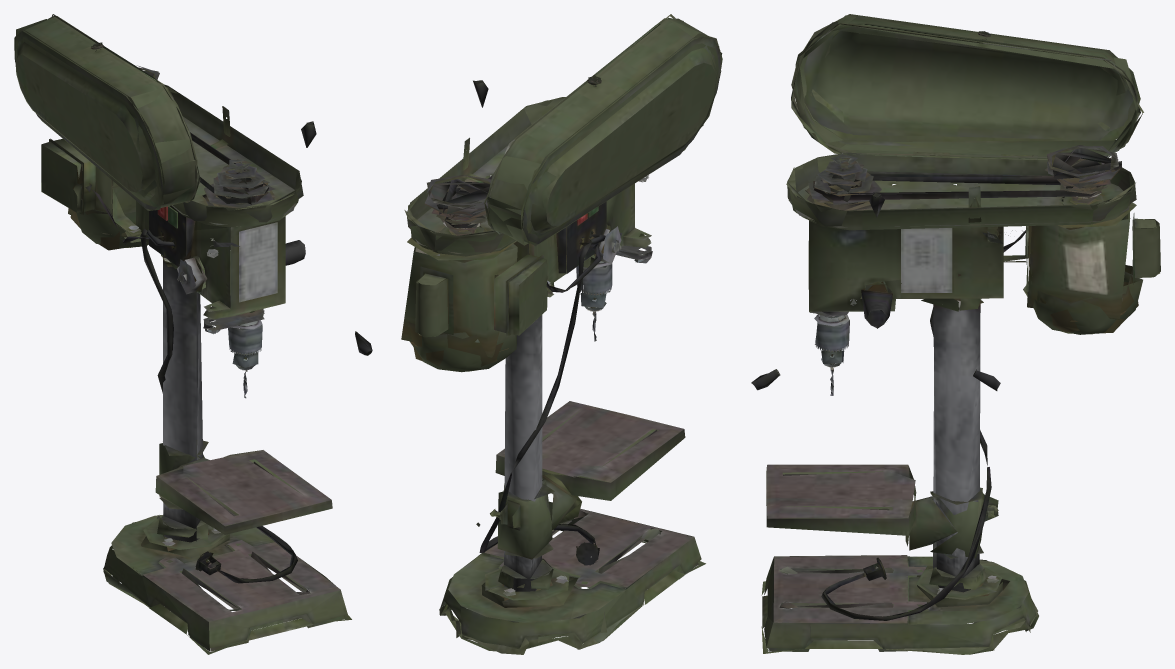
Rendered from drill_press_01.glb.
3 views of the same model, side by side, from view 1: azimuth 30°, elevation 25°; view 2: azimuth 150°, elevation 25°; view 3: azimuth 270°, elevation 25° (orthographic). The views are drawn at different scales.
Parts seen in each view (by area): view 1: drill_press_01, drill_press_01_lid, drill_press_01_plate, drill_press_01_plug, drill_press_01_gear_b, drill_press_01_bit, drill_press_01_handle, drill_press_01_limiter, drill_press_01_belt; view 2: drill_press_01, drill_press_01_lid, drill_press_01_plate, drill_press_01_gear_a, drill_press_01_plug, drill_press_01_bit, drill_press_01_limiter; view 3: drill_press_01, drill_press_01_lid, drill_press_01_plate, drill_press_01_belt, drill_press_01_gear_a, drill_press_01_gear_b, drill_press_01_plug, drill_press_01_handle, drill_press_01_bit.
Boxes of the visible parts, left/top/right/bottom form: drill_press_01: left=41, top=84, right=351, bottom=654; drill_press_01_lid: left=14, top=14, right=200, bottom=210; drill_press_01_plate: left=155, top=440, right=332, bottom=534; drill_press_01_plug: left=140, top=228, right=297, bottom=583; drill_press_01_gear_b: left=202, top=159, right=275, bottom=207; drill_press_01_bit: left=228, top=320, right=262, bottom=398; drill_press_01_handle: left=285, top=121, right=372, bottom=355; drill_press_01_limiter: left=203, top=238, right=264, bottom=334; drill_press_01_belt: left=190, top=132, right=268, bottom=203; drill_press_01: left=401, top=97, right=705, bottom=654; drill_press_01_lid: left=484, top=14, right=722, bottom=245; drill_press_01_plate: left=495, top=401, right=685, bottom=559; drill_press_01_gear_a: left=425, top=175, right=491, bottom=235; drill_press_01_plug: left=479, top=234, right=605, bottom=565; drill_press_01_bit: left=576, top=261, right=612, bottom=341; drill_press_01_limiter: left=615, top=175, right=652, bottom=263; drill_press_01: left=761, top=152, right=1160, bottom=654; drill_press_01_lid: left=791, top=14, right=1143, bottom=160; drill_press_01_plate: left=766, top=464, right=998, bottom=558; drill_press_01_belt: left=814, top=171, right=1100, bottom=200; drill_press_01_gear_a: left=1045, top=145, right=1121, bottom=203; drill_press_01_gear_b: left=805, top=154, right=881, bottom=210; drill_press_01_plug: left=821, top=307, right=991, bottom=620; drill_press_01_handle: left=751, top=192, right=1000, bottom=390; drill_press_01_bit: left=814, top=314, right=849, bottom=395.
Size of the model in its own units: 0.356 by 0.901 by 0.6011.
1 material, 1 textured.
